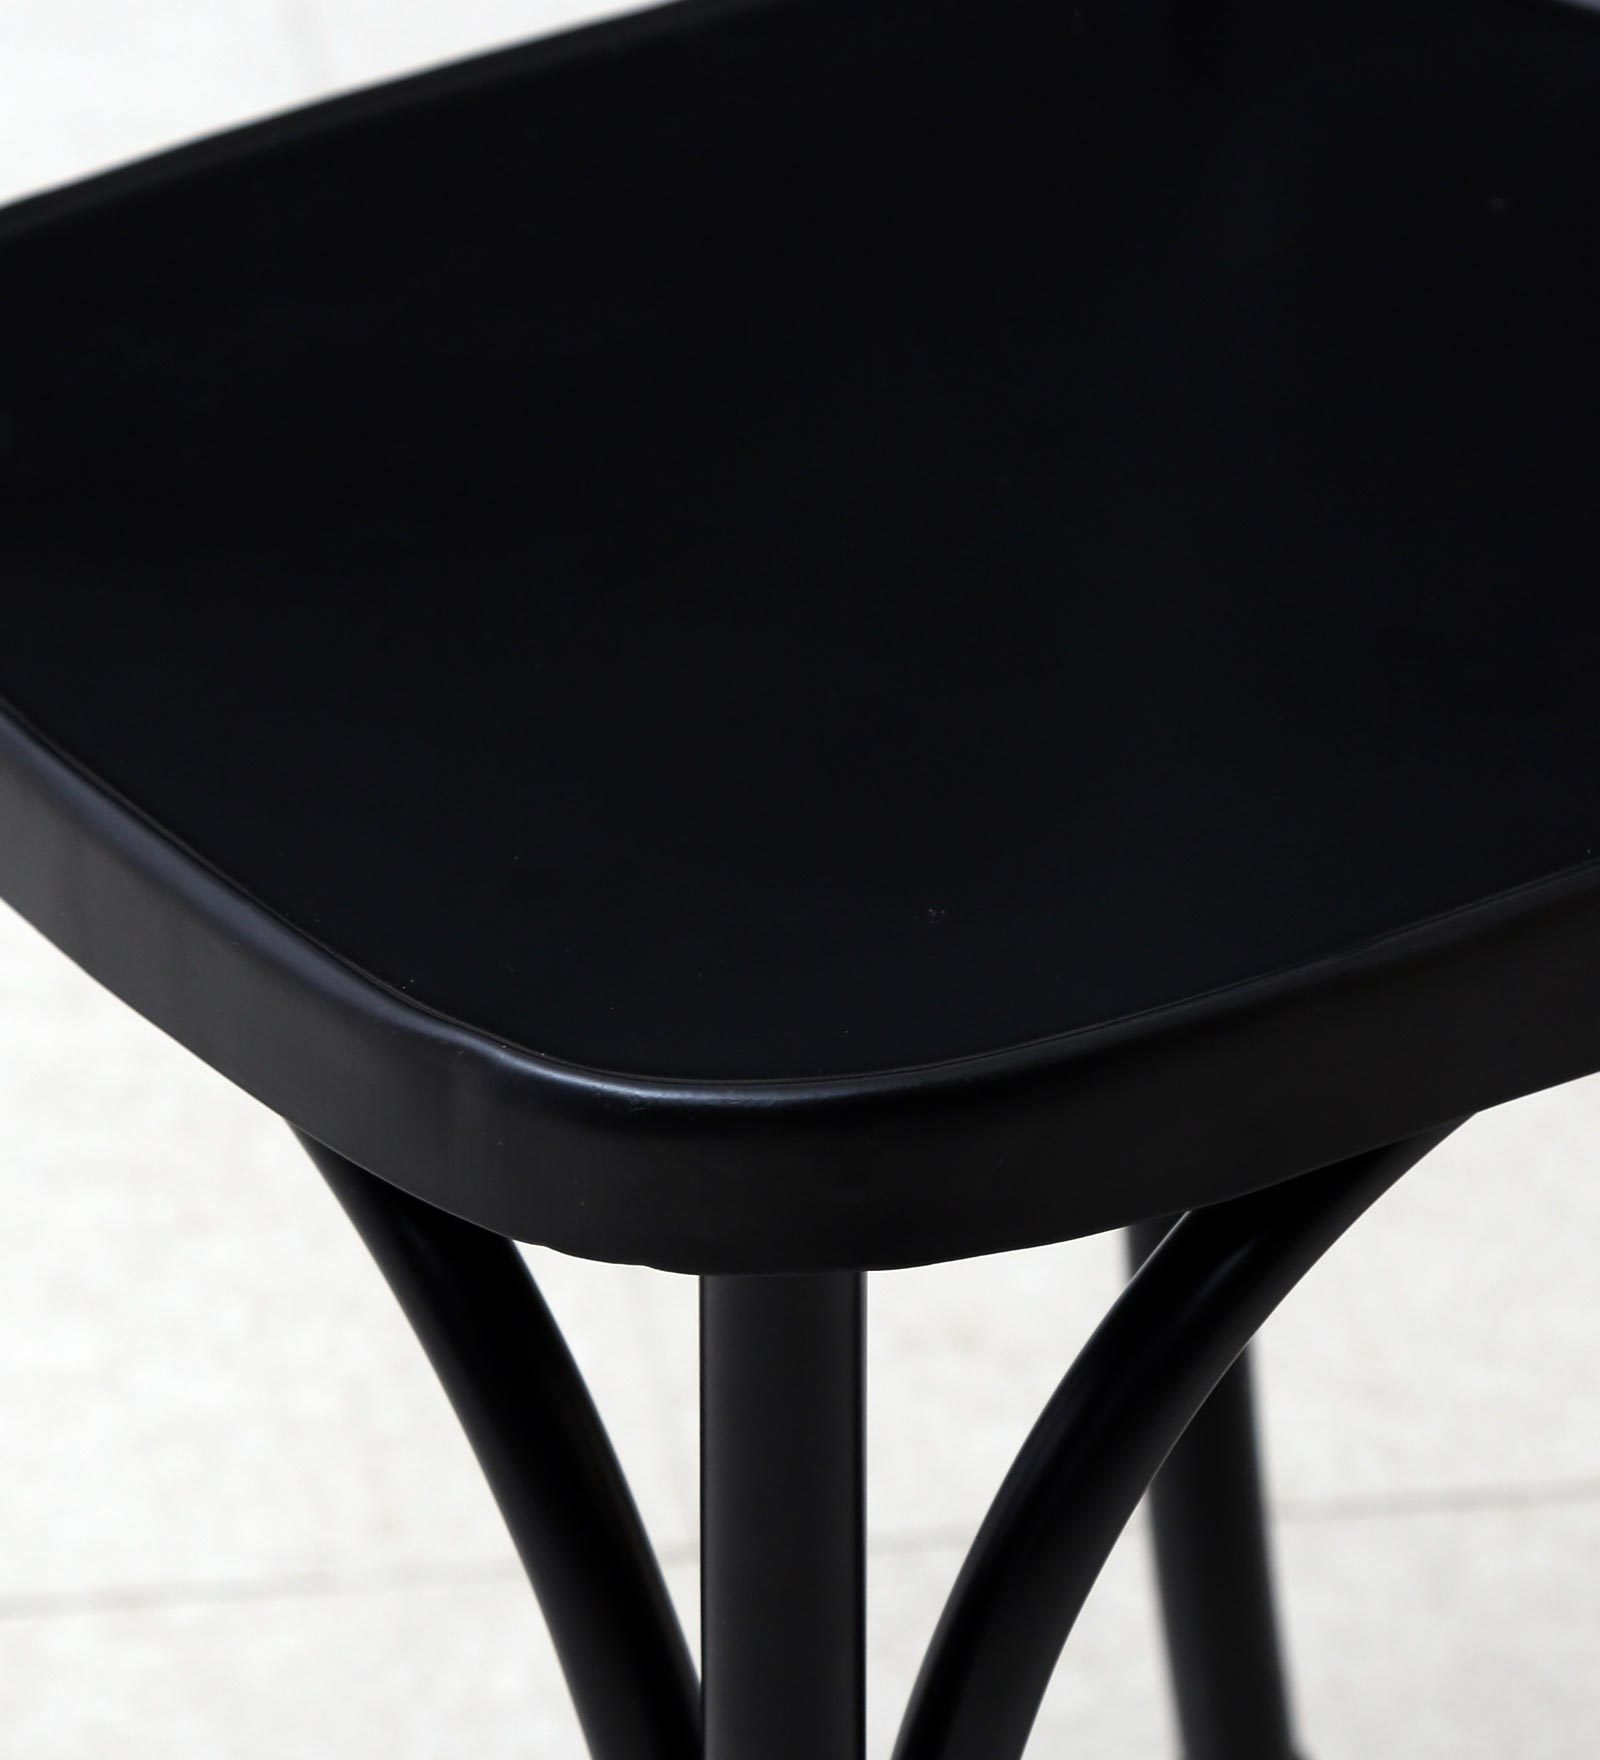Fabian Metal Chair in Black Color by Bohemiana: (2, 5, 1592, 1760)
